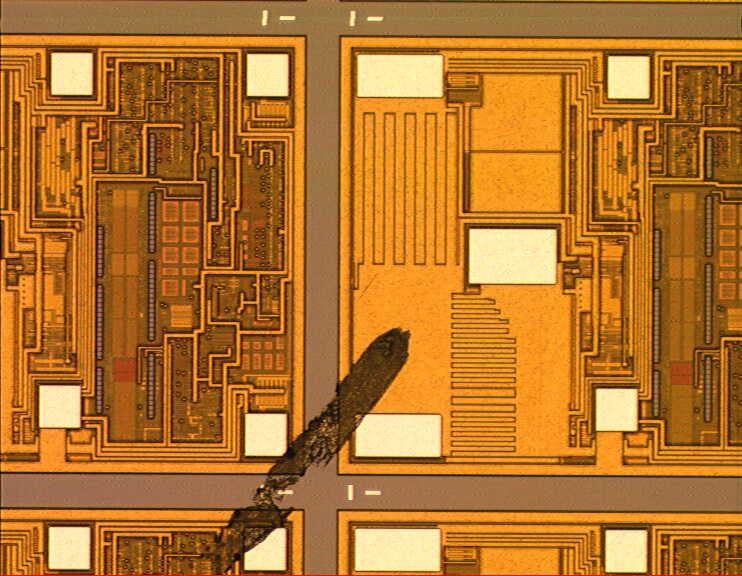SCRATCH: (192, 321, 419, 576)
